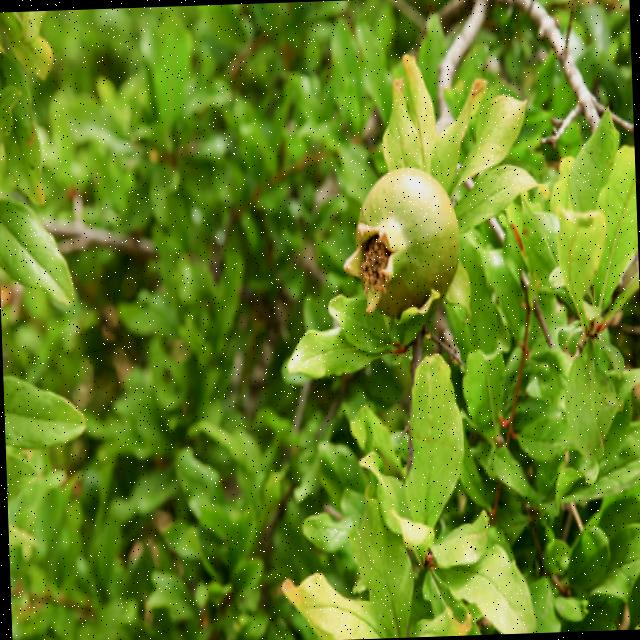Unripe: (337, 162, 464, 316)
